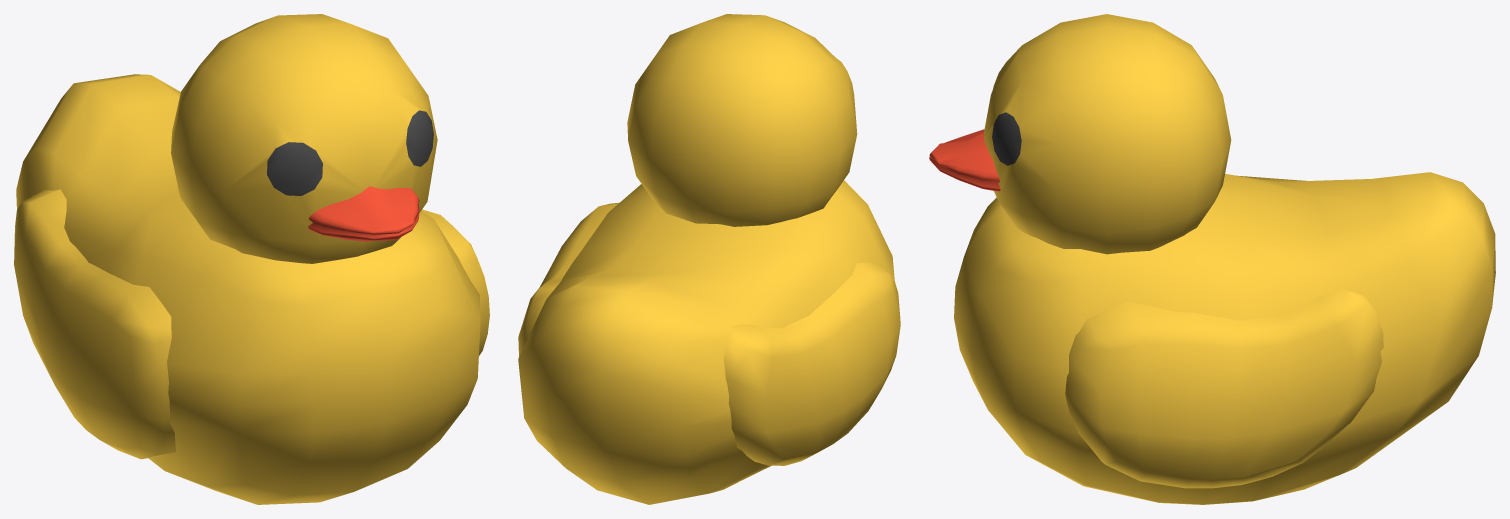
File: duck_toy.fbx
3 views of the same model, side by side, from view 1: azimuth 30°, elevation 25°; view 2: azimuth 150°, elevation 25°; view 3: azimuth 270°, elevation 25° (orthographic). The views are drawn at different scales.
Visible parts, largest first — view 1: duck_toy; view 2: duck_toy; view 3: duck_toy.
Boxes of the visible parts, <box> form: duck_toy: <box>14,14,489,504</box>; duck_toy: <box>518,14,900,504</box>; duck_toy: <box>929,14,1495,504</box>.
Size of the model in its own units: 33.27 by 41.35 by 46.74.
1 material, 1 textured.
